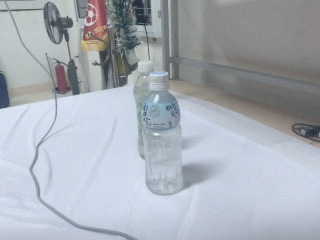bottle: (142, 71, 183, 196), (133, 60, 154, 160)
